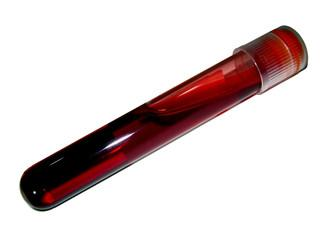Test tube: (0, 13, 318, 211)
